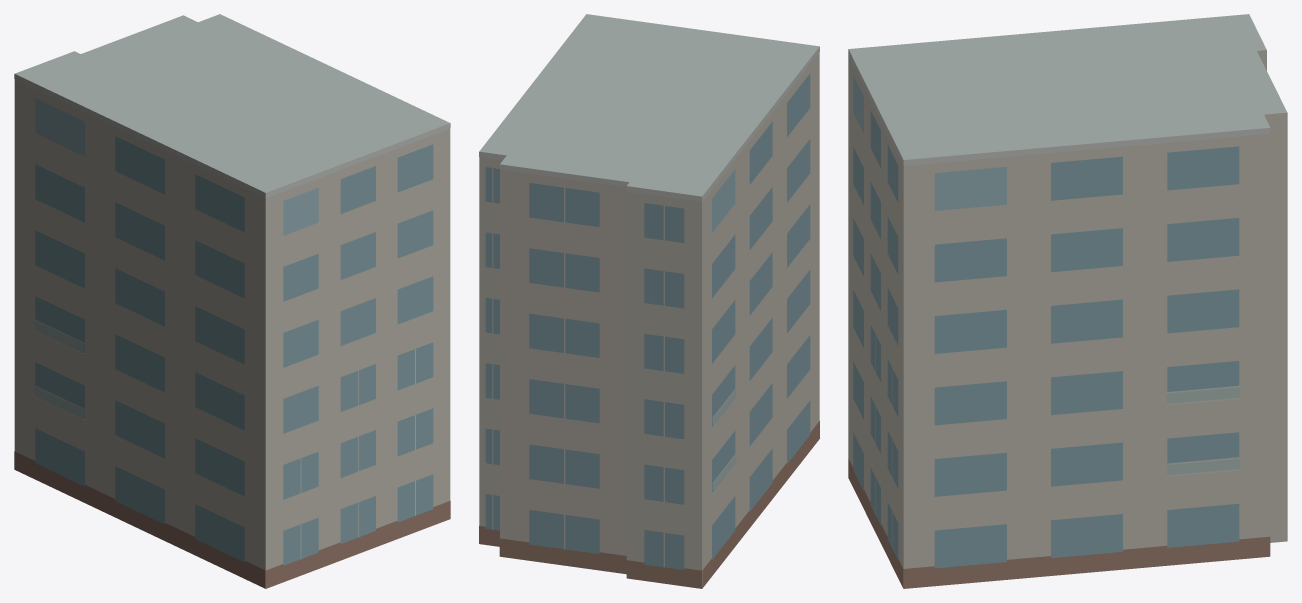
Rendered from survey-upis-32723735.glb.
The picture shows the model from 3 angles, left to right: view 1: azimuth 30°, elevation 25°; view 2: azimuth 150°, elevation 25°; view 3: azimuth 270°, elevation 25°; orthographic projection. The views are drawn at different scales.
Parts seen in each view (by area): view 1: survey-upis-32723735.tmp; view 2: survey-upis-32723735.tmp; view 3: survey-upis-32723735.tmp.
Boxes of the visible parts, x1,y1,x2,y2 form: survey-upis-32723735.tmp: (14, 14, 450, 588); survey-upis-32723735.tmp: (479, 14, 819, 588); survey-upis-32723735.tmp: (848, 14, 1287, 588).
Bounding box in the file's own units: 13.05 × 17.85 × 16.57.
